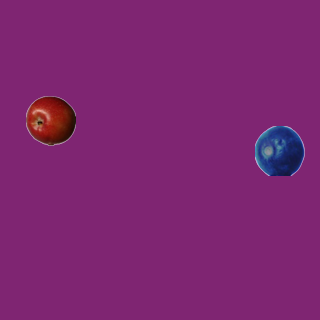Apple Braeburn: (25, 95, 75, 145)
Huckleberry: (254, 125, 304, 175)
